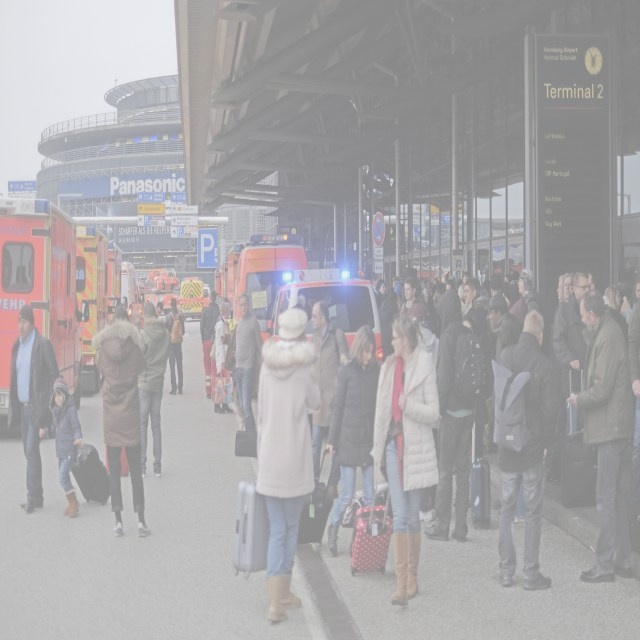pessoa: (562, 286, 636, 585), (370, 311, 442, 610), (256, 306, 321, 625), (488, 306, 559, 594), (423, 288, 486, 544), (89, 304, 154, 538), (324, 322, 381, 558), (5, 302, 62, 514), (310, 300, 350, 500), (38, 374, 86, 520), (552, 270, 592, 438), (620, 268, 640, 588), (484, 292, 512, 514), (220, 291, 264, 432), (136, 302, 170, 478), (500, 312, 526, 524), (462, 314, 489, 510), (463, 278, 489, 459), (208, 300, 234, 414), (369, 272, 402, 353), (199, 288, 221, 401), (164, 296, 186, 396), (416, 262, 443, 324), (552, 272, 574, 341), (550, 274, 568, 356), (517, 268, 544, 316), (602, 286, 626, 337), (496, 267, 521, 312), (444, 260, 470, 299), (399, 277, 418, 320), (586, 266, 602, 298), (290, 292, 310, 312), (480, 264, 494, 290), (154, 301, 164, 318), (255, 314, 263, 326)
